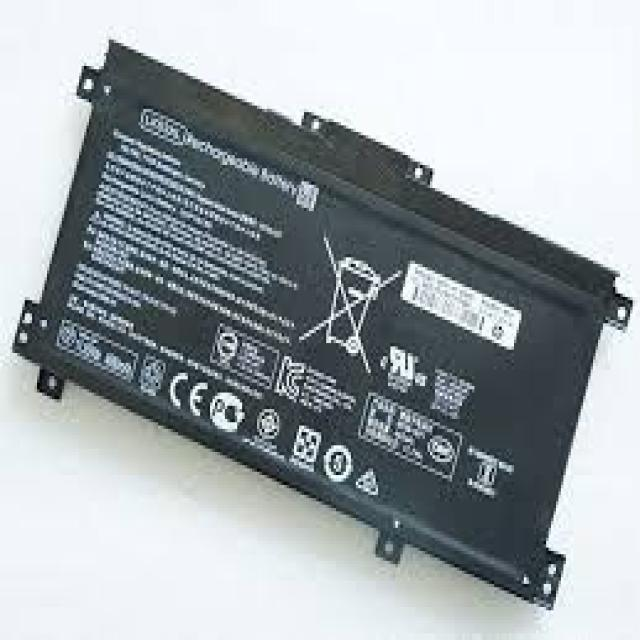Battery: (6, 22, 639, 619)
